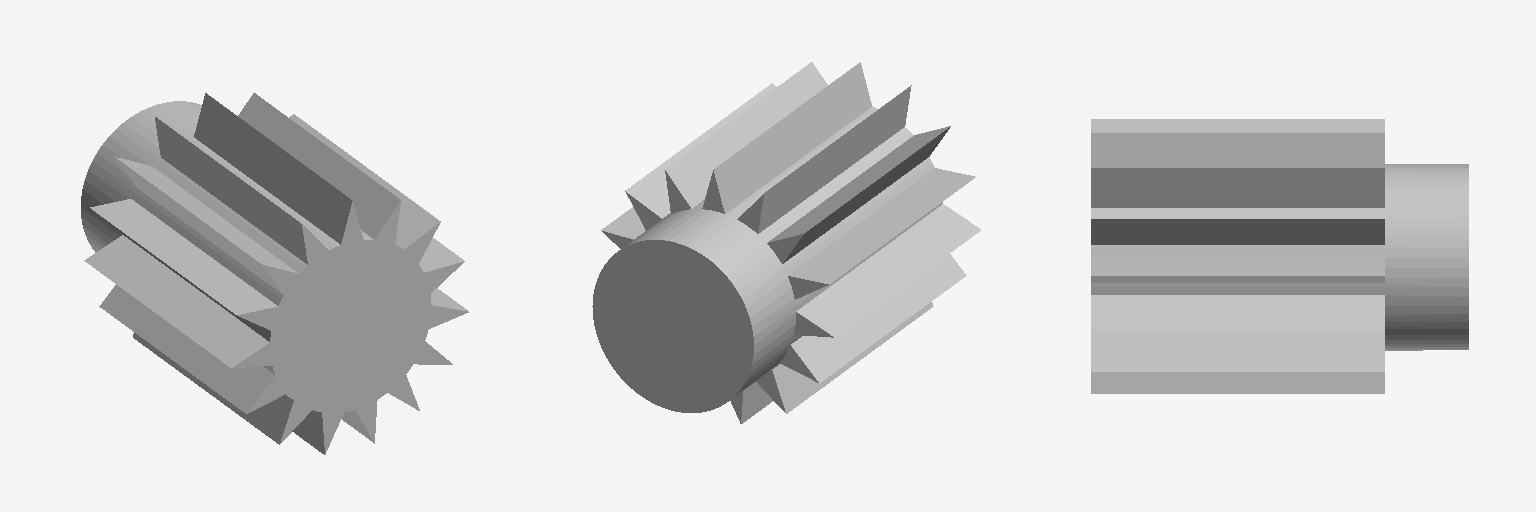
File: button.obj
The picture shows the model from 3 angles: view 1: azimuth 30°, elevation 25°; view 2: azimuth 150°, elevation 25°; view 3: azimuth 270°, elevation 25°; orthographic projection.
Visible parts, largest first — view 1: mesh2, mesh1, mesh23, mesh7, mesh5, mesh20, mesh3, mesh22, mesh21, mesh6, mesh10, mesh25 (+2 smaller); view 2: mesh0, mesh1, mesh23, mesh7, mesh5, mesh20, mesh3, mesh22, mesh21, mesh6, mesh10, mesh25 (+2 smaller); view 3: mesh1, mesh32, mesh9, mesh12, mesh19, mesh17, mesh29, mesh18, mesh8, mesh11.
Boxes of the visible parts, x1,y1,x2,y2 form: mesh2: [231, 201, 468, 454]; mesh1: [81, 101, 400, 398]; mesh23: [84, 235, 269, 367]; mesh7: [194, 93, 352, 244]; mesh5: [90, 199, 277, 314]; mesh20: [238, 93, 400, 239]; mesh3: [99, 285, 274, 413]; mesh22: [155, 117, 307, 264]; mesh21: [114, 156, 298, 273]; mesh6: [115, 157, 282, 293]; mesh10: [289, 114, 440, 249]; mesh25: [133, 332, 293, 444]; mesh0: [592, 240, 753, 412]; mesh1: [623, 106, 942, 398]; mesh23: [796, 204, 980, 337]; mesh7: [714, 62, 871, 213]; mesh5: [788, 168, 975, 284]; mesh20: [665, 62, 827, 208]; mesh3: [791, 254, 966, 383]; mesh22: [758, 85, 911, 233]; mesh21: [768, 126, 950, 242]; mesh6: [783, 127, 949, 263]; mesh10: [625, 83, 776, 218]; mesh25: [772, 302, 933, 413]; mesh1: [1091, 164, 1468, 350]; mesh32: [1091, 330, 1384, 371]; mesh9: [1091, 168, 1384, 207]; mesh12: [1091, 295, 1384, 329]; mesh19: [1091, 133, 1384, 167]; mesh17: [1091, 219, 1384, 244]; mesh29: [1091, 372, 1384, 393]; mesh18: [1091, 257, 1384, 275]; mesh8: [1091, 119, 1384, 132]; mesh11: [1091, 276, 1384, 282].
Bounding box in the file's own units: 0.0066 × 0.0065 × 0.009.